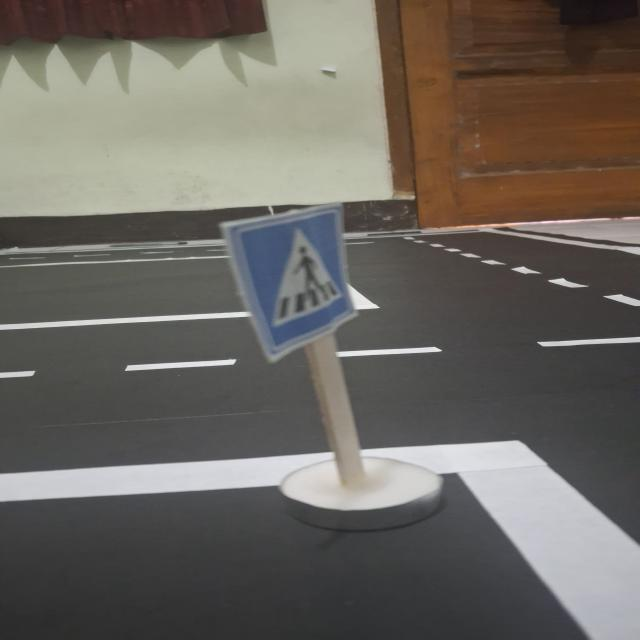Rambu Penyebrangan: (237, 215, 350, 348)
